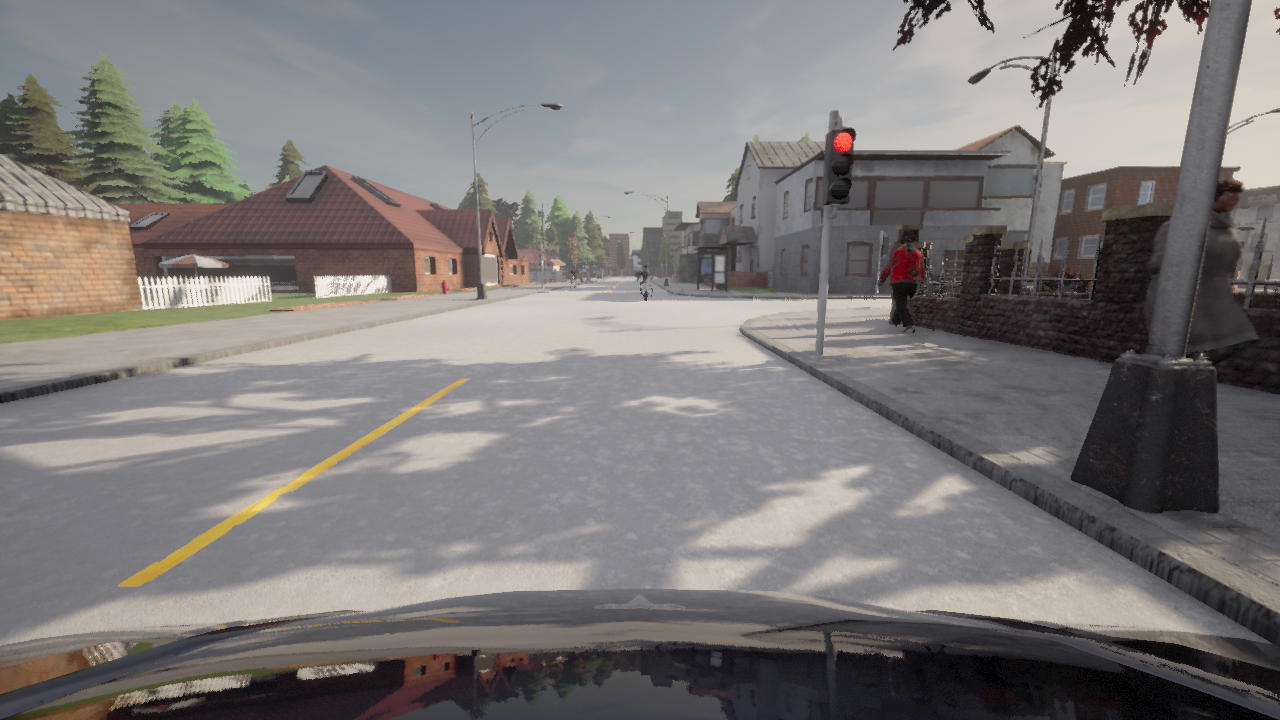cyclist: (0, 588, 1279, 719), (1028, 273, 1091, 291), (638, 272, 651, 301), (935, 287, 950, 292), (572, 275, 575, 289), (1271, 287, 1279, 291)
pedestrian: (1144, 179, 1259, 366), (879, 237, 924, 332)
